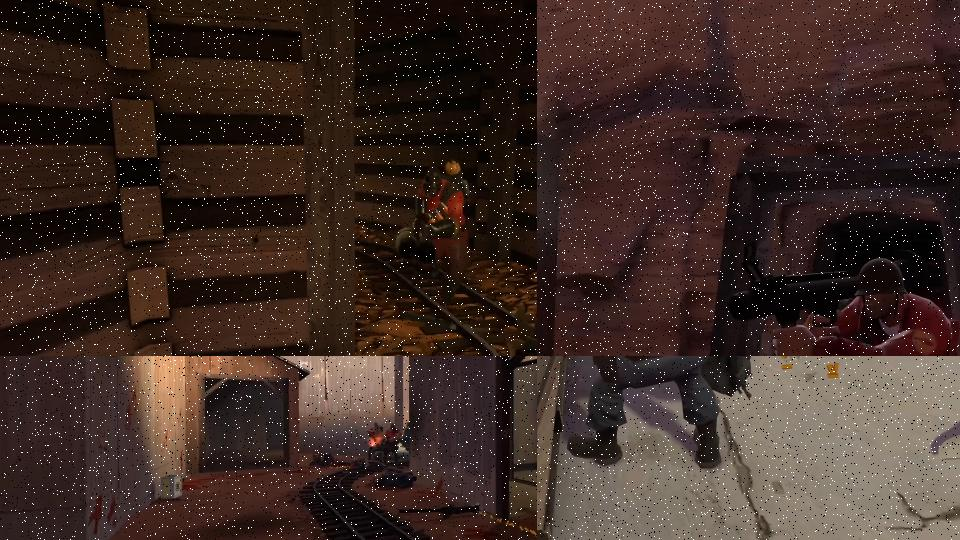Enemy: (558, 356, 847, 472), (723, 242, 960, 356), (393, 158, 472, 312), (379, 423, 402, 466), (367, 422, 385, 462)
